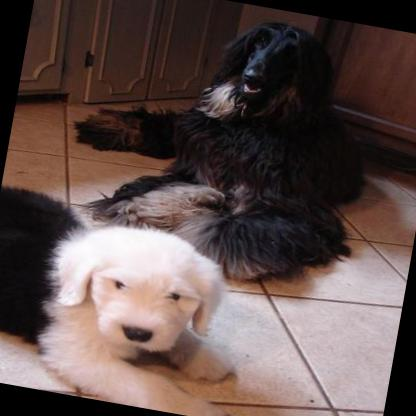Old_English_sheepdog: (0, 179, 262, 416)
